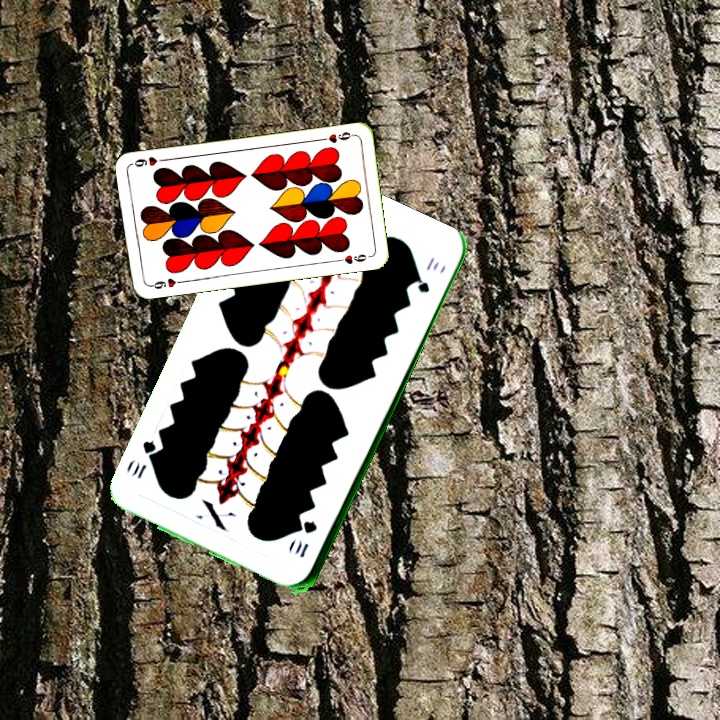G10: (291, 517, 320, 561)
H9: (316, 128, 357, 146), (145, 274, 186, 291)
